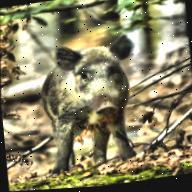boar: (29, 26, 151, 179)
